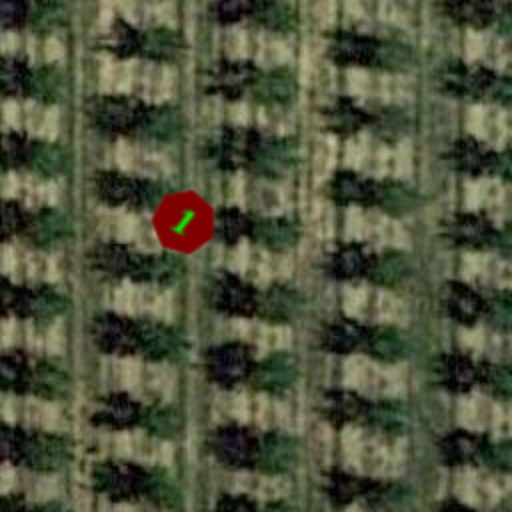heptagon: (138, 176, 230, 268)
